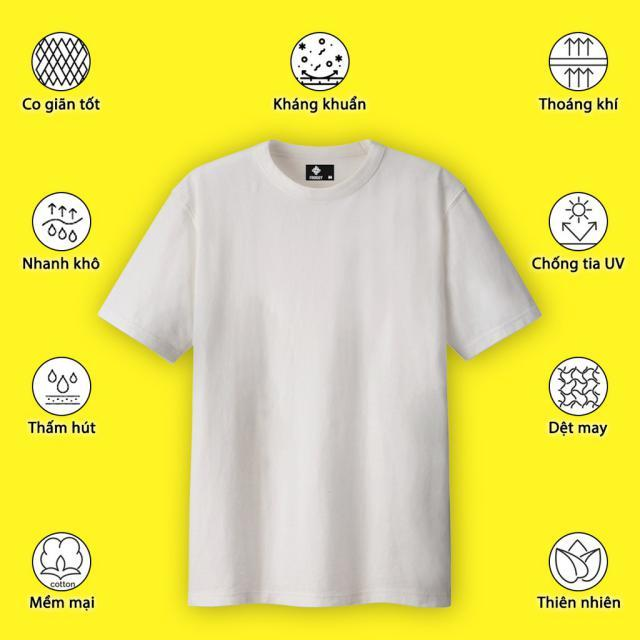Shirt: (98, 136, 544, 615)
